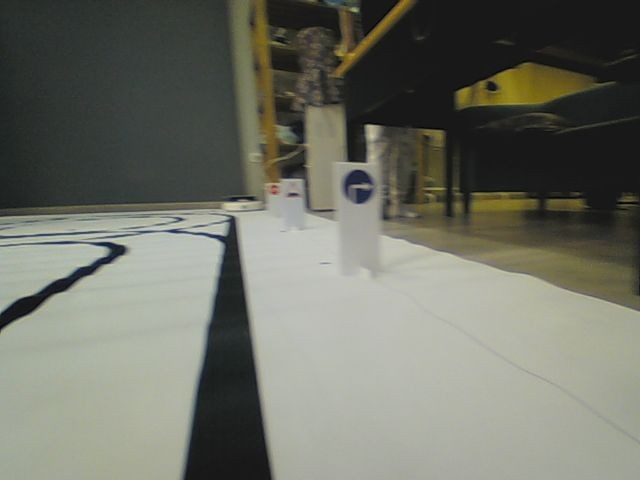Right: (341, 168, 374, 205)
